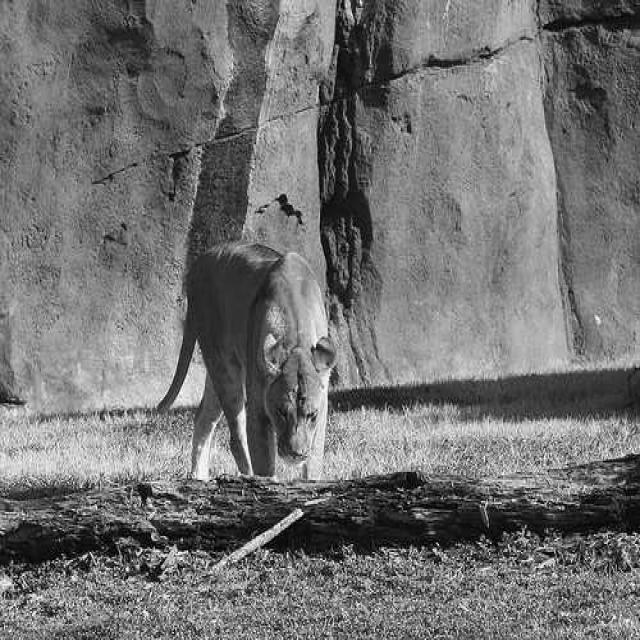Lion: (176, 211, 363, 506)
